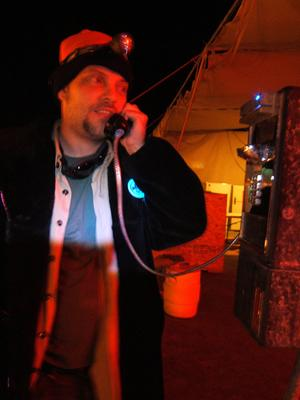person: (3, 24, 210, 396)
